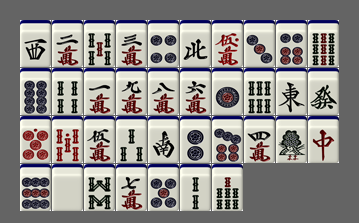0m: (212, 20, 243, 67)
0p: (20, 116, 51, 163)
0s: (52, 116, 83, 163)
1m: (84, 68, 115, 115)
1p: (212, 68, 243, 115)
1s: (276, 116, 307, 163)
1z: (276, 68, 307, 115)
2m: (52, 20, 83, 67)
2p: (180, 116, 211, 163)
2s: (180, 164, 211, 211)
2z: (148, 116, 179, 163)
3m: (116, 20, 147, 67)
3p: (244, 20, 275, 67)
3s: (116, 116, 147, 163)
3z: (20, 20, 51, 67)
4m: (244, 116, 275, 163)
4p: (148, 20, 179, 67)
4s: (52, 68, 83, 115)
4z: (180, 20, 211, 67)
5m: (84, 116, 115, 163)
5p: (148, 164, 179, 211)
5s: (84, 20, 115, 67)
5z: (52, 164, 83, 211)
6m: (180, 68, 211, 115)
6p: (276, 20, 307, 67)
6s: (244, 68, 275, 115)
6z: (308, 68, 339, 115)
7m: (116, 164, 147, 211)
7p: (212, 116, 243, 163)
7s: (212, 164, 243, 211)
7z: (308, 116, 339, 163)
8m: (148, 68, 179, 115)
8p: (20, 68, 51, 115)
8s: (84, 164, 115, 211)
9m: (116, 68, 147, 115)
9p: (20, 164, 51, 211)
9s: (308, 20, 339, 67)
